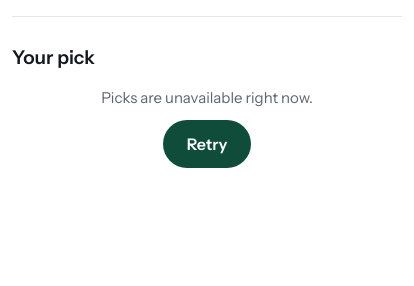
Scenario: other states › keeps the shell and offers a retry when the tips API fails
This screenshot has width=414, height=286.
Expected: the text "Picks are unavailable right now." is shown, [101, 87, 313, 108]
Expected: the heading "Your pick" is shown, [12, 46, 95, 69]
Step 1. Click the button "Retry" → x=207, y=144, box [163, 120, 251, 168]
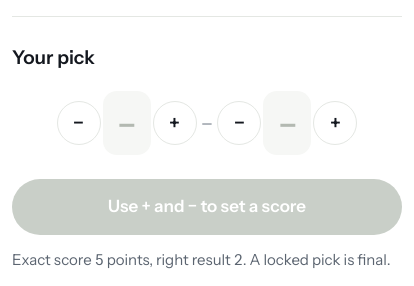
Expected: the element named "Set your score" is shown, [56, 91, 357, 155]
